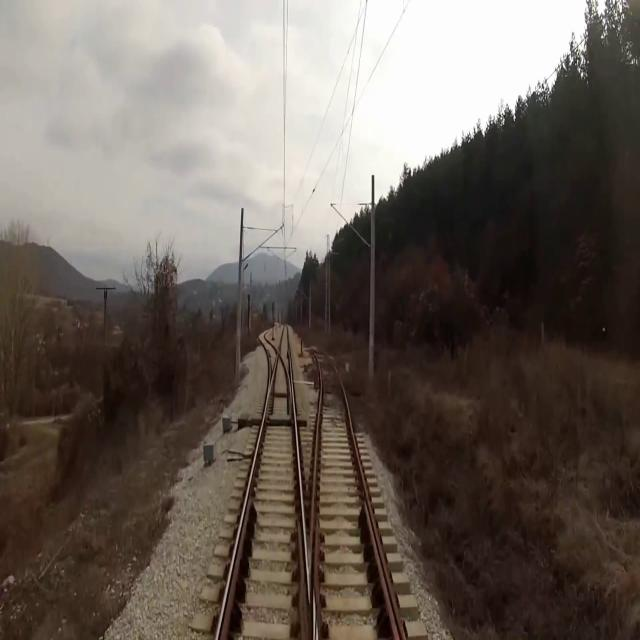rail-track: (312, 346, 392, 639), (227, 357, 306, 639), (259, 332, 276, 370), (280, 327, 289, 370)
